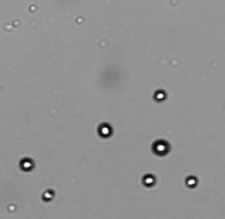Living Cell: (152, 139, 171, 156), (96, 122, 114, 139), (18, 157, 36, 173), (41, 187, 57, 202), (184, 174, 199, 189), (142, 173, 156, 188), (153, 88, 168, 102)
